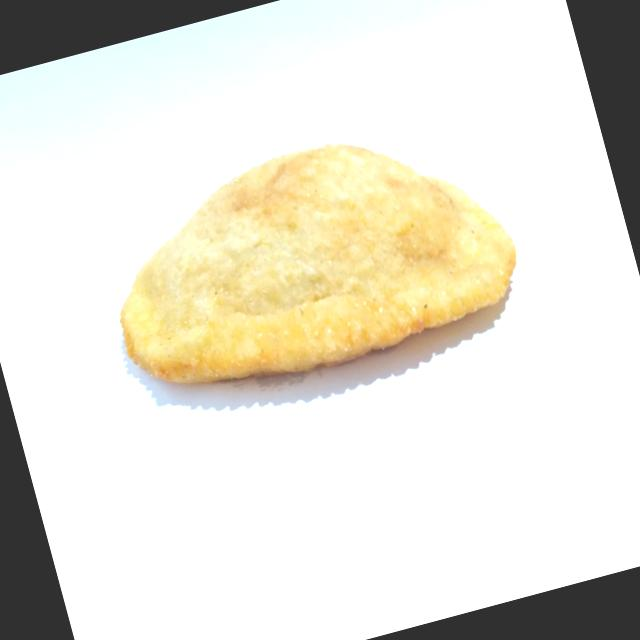Pastel_Mandio: (67, 88, 566, 445)
